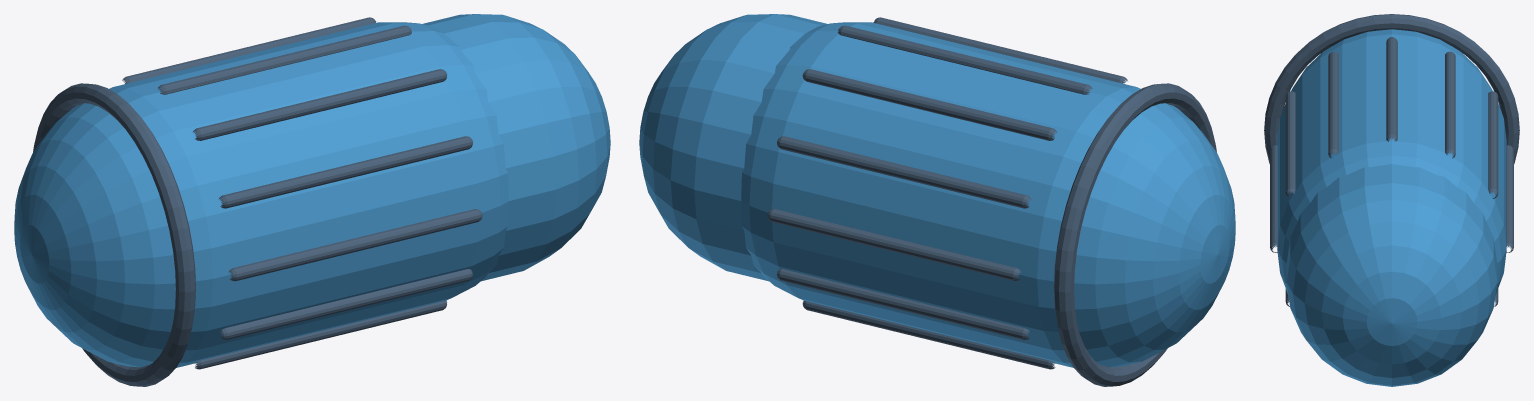
Rendered from dranmar_skin_adhesive_cap.glb.
3 views of the same model, side by side, from view 1: azimuth 30°, elevation 25°; view 2: azimuth 150°, elevation 25°; view 3: azimuth 270°, elevation 25° (orthographic). The views are drawn at different scales.
Parts seen in each view (by area): view 1: CapBody, CapRear, SnapLip, GripRib_02, GripRib_03, GripRib_01, GripRib_04, GripRib_00, GripRib_05, GripRib_11; view 2: CapBody, CapRear, SnapLip, GripRib_10, GripRib_09, GripRib_11, GripRib_08, GripRib_00, GripRib_07, GripRib_01; view 3: CapRear, CapBody, SnapLip, GripRib_00, GripRib_11, GripRib_01, GripRib_10, GripRib_02, GripRib_09, GripRib_03.
Part boxes in pixels (bbox=[...]): CapBody: bbox=[14, 22, 508, 367]; CapRear: bbox=[422, 14, 610, 281]; SnapLip: bbox=[33, 83, 195, 386]; GripRib_02: bbox=[219, 136, 472, 208]; GripRib_03: bbox=[229, 209, 482, 281]; GripRib_01: bbox=[193, 69, 447, 140]; GripRib_04: bbox=[220, 269, 472, 340]; GripRib_00: bbox=[158, 25, 411, 94]; GripRib_05: bbox=[195, 300, 447, 369]; GripRib_11: bbox=[122, 17, 376, 83]; CapBody: bbox=[741, 22, 1235, 367]; CapRear: bbox=[639, 14, 827, 281]; SnapLip: bbox=[1054, 83, 1216, 386]; GripRib_10: bbox=[777, 136, 1031, 208]; GripRib_09: bbox=[767, 209, 1021, 281]; GripRib_11: bbox=[802, 69, 1057, 140]; GripRib_08: bbox=[776, 269, 1029, 340]; GripRib_00: bbox=[838, 25, 1092, 94]; GripRib_07: bbox=[802, 301, 1055, 369]; GripRib_01: bbox=[873, 17, 1127, 83]; CapRear: bbox=[1286, 164, 1497, 386]; CapBody: bbox=[1277, 29, 1506, 295]; SnapLip: bbox=[1264, 14, 1519, 163]; GripRib_00: bbox=[1386, 37, 1397, 141]; GripRib_11: bbox=[1445, 51, 1455, 158]; GripRib_01: bbox=[1328, 51, 1338, 157]; GripRib_10: bbox=[1488, 91, 1498, 198]; GripRib_02: bbox=[1285, 91, 1295, 198]; GripRib_09: bbox=[1506, 145, 1513, 252]; GripRib_03: bbox=[1270, 145, 1277, 252].
Bounding box in the file's own units: 0.0329 × 0.0157 × 0.0157.
